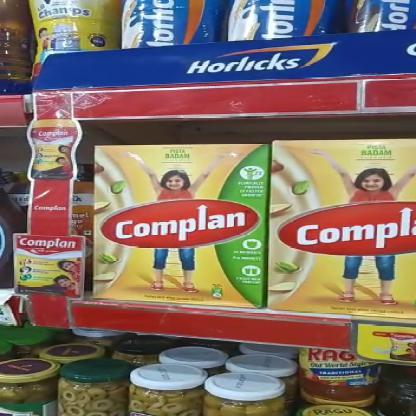Complan Pista Badam: (91, 143, 264, 304), (269, 142, 415, 316)
